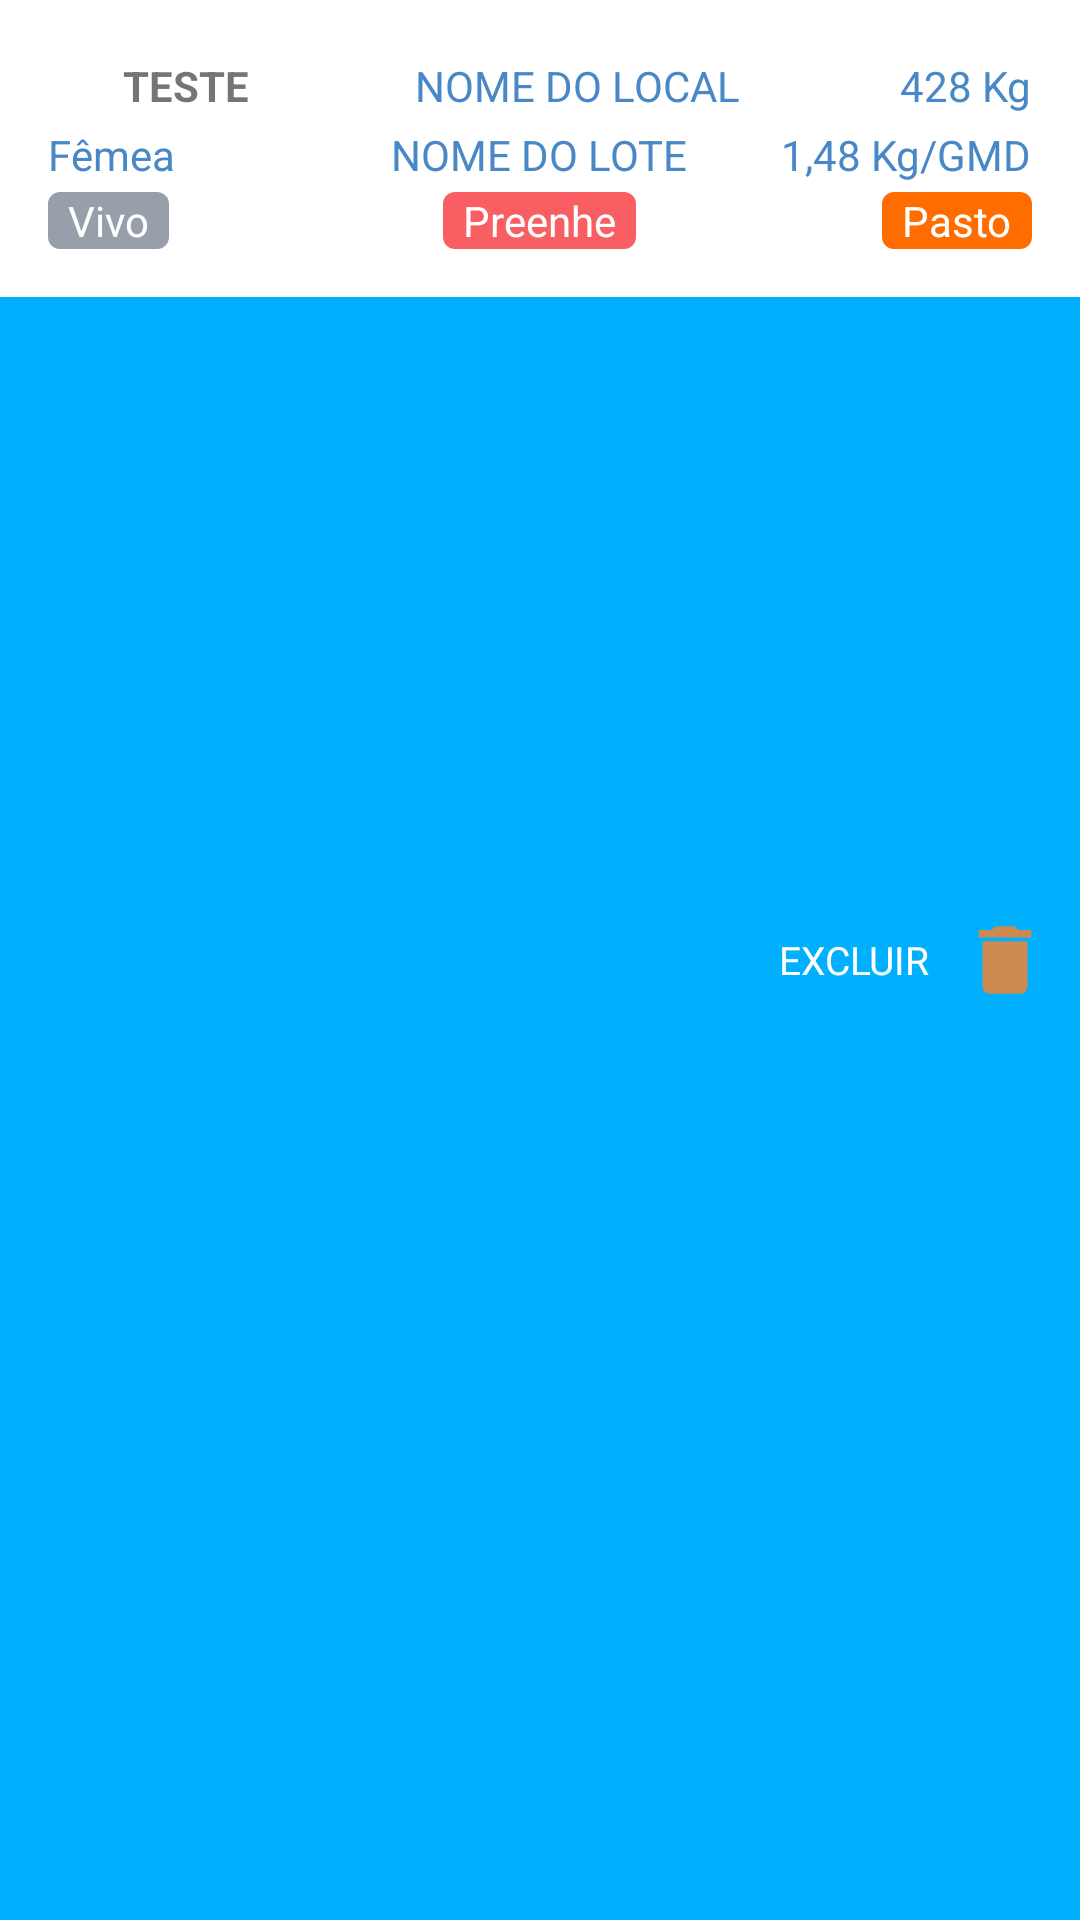

Icons on this 1080px×1920px Android screen, each with the point to tap as point (x, y):
delete: point (1005, 960)
